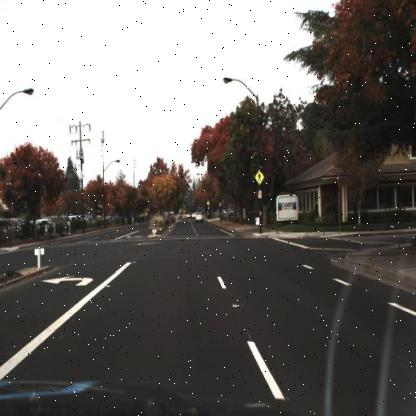car: (194, 209, 204, 224)
